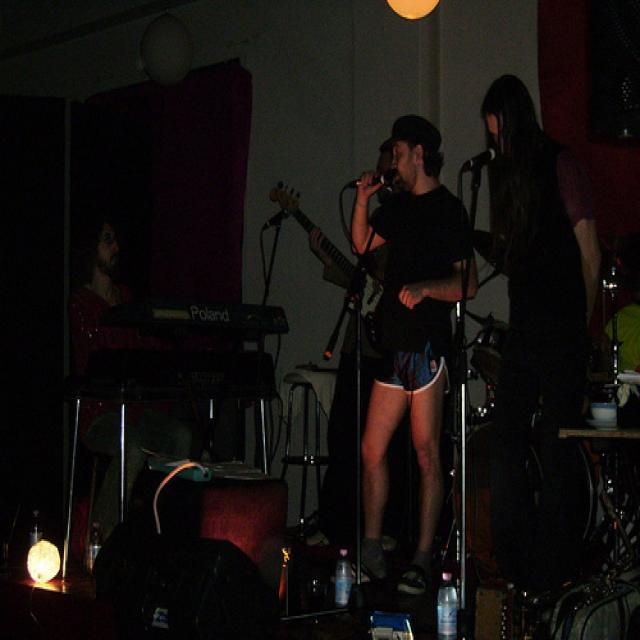People: (480, 70, 640, 621), (385, 107, 483, 584), (66, 198, 158, 597), (357, 122, 423, 453)
